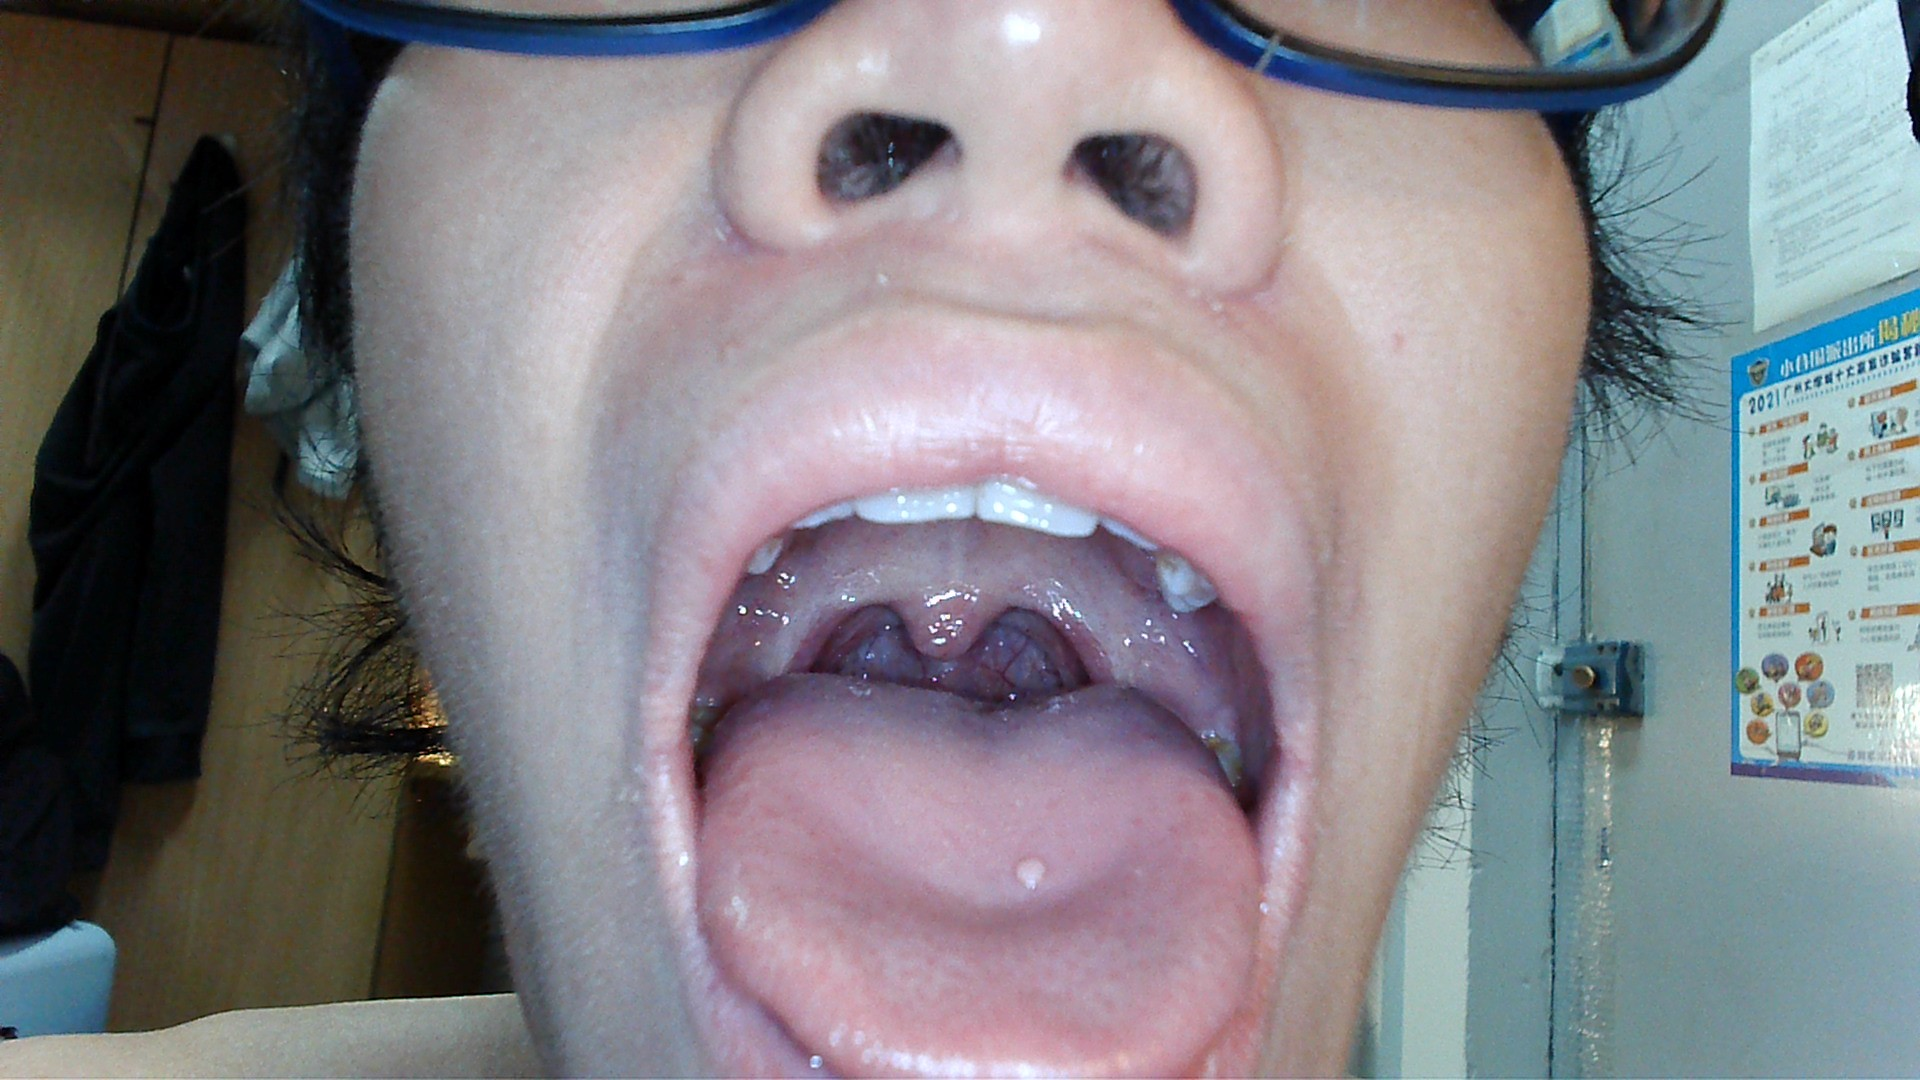throat: (1054, 584, 1114, 688), (782, 584, 847, 676)
